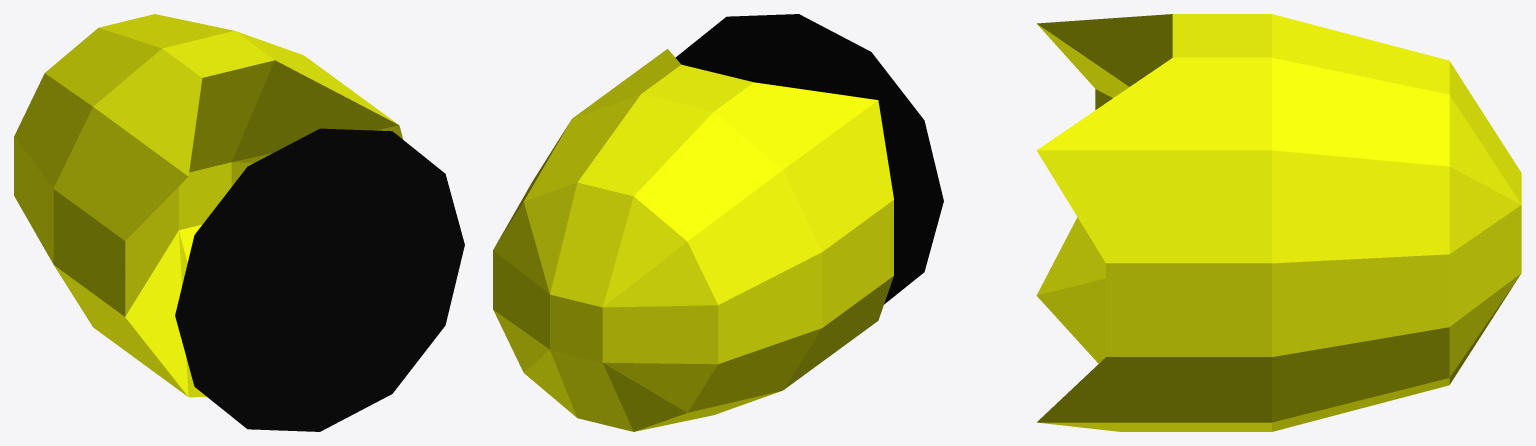
File: EnemyYellow.fbx
3 views of the same model, side by side, from view 1: azimuth 30°, elevation 25°; view 2: azimuth 150°, elevation 25°; view 3: azimuth 270°, elevation 25° (orthographic). The views are drawn at different scales.
Visible parts, largest first — view 1: Cube; view 2: Cube; view 3: Cube.
Part boxes in pixels (x1=…): Cube: x1=14, y1=14, x2=464, y2=431; Cube: x1=493, y1=14, x2=943, y2=431; Cube: x1=1036, y1=14, x2=1521, y2=431.
Size of the model in its own units: 0.5318 by 0.5318 by 0.7073.
